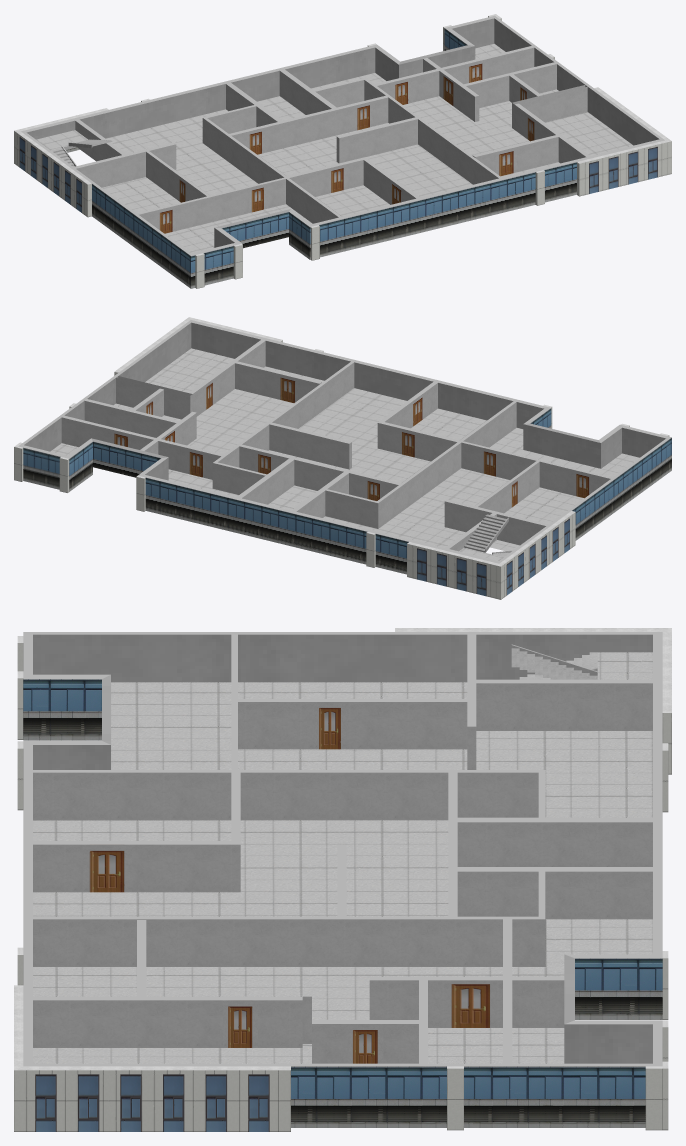
3 renders of one model, top to bottom at view 1: azimuth 30°, elevation 25°; view 2: azimuth 150°, elevation 25°; view 3: azimuth 270°, elevation 25°, orthographic. The views are drawn at different scales.
Visible parts, largest first — view 1: zj3.001; view 2: zj3.001; view 3: zj3.001.
Part boxes in pixels (left/top/right/bottom): zj3.001: left=14, top=14, right=671, bottom=288; zj3.001: left=14, top=317, right=671, bottom=599; zj3.001: left=14, top=628, right=671, bottom=1131.
Bounding box in the file's own units: 56.65 × 4.62 × 35.63.
Materials: 18 (16 with a texture image).
